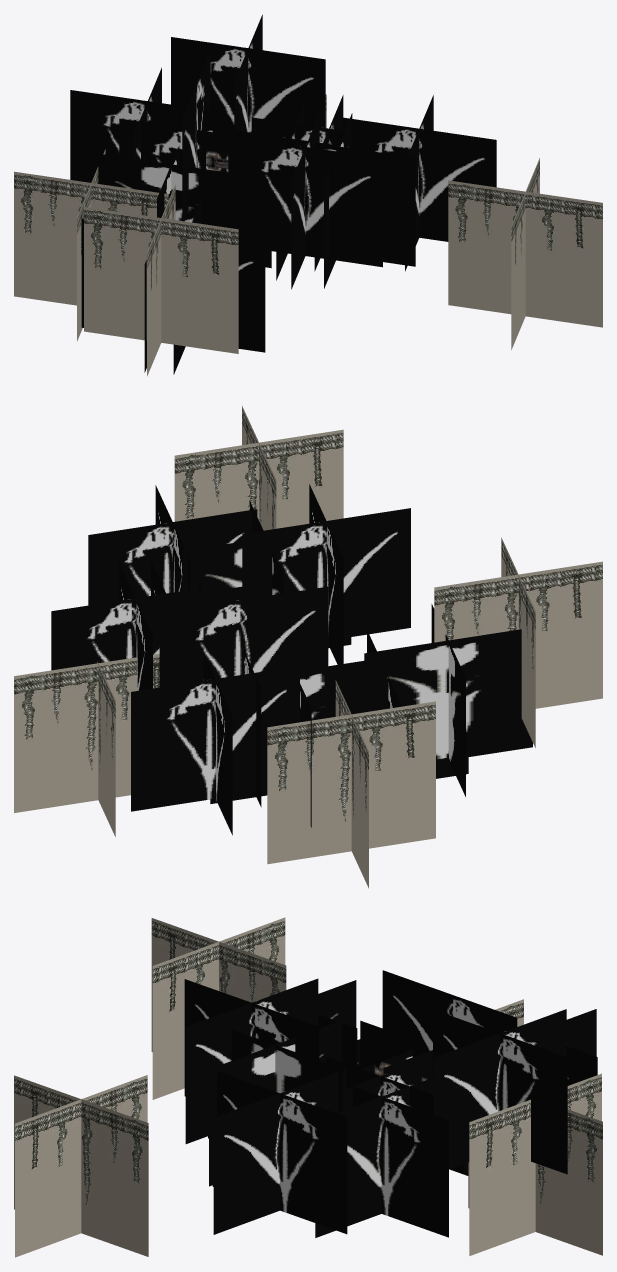
Rendered from chao03.obj.
3 renders of one model, top to bottom at view 1: azimuth 30°, elevation 25°; view 2: azimuth 150°, elevation 25°; view 3: azimuth 270°, elevation 25°, orthographic. The views are drawn at different scales.
Parts seen in each view (by area): view 1: chao03; view 2: chao03; view 3: chao03.
Part boxes in pixels (bbox=[...]): chao03: bbox=[14, 14, 602, 376]; chao03: bbox=[14, 406, 602, 888]; chao03: bbox=[14, 917, 602, 1257].
Size of the model in its own units: 47.34 by 23.22 by 57.12.
